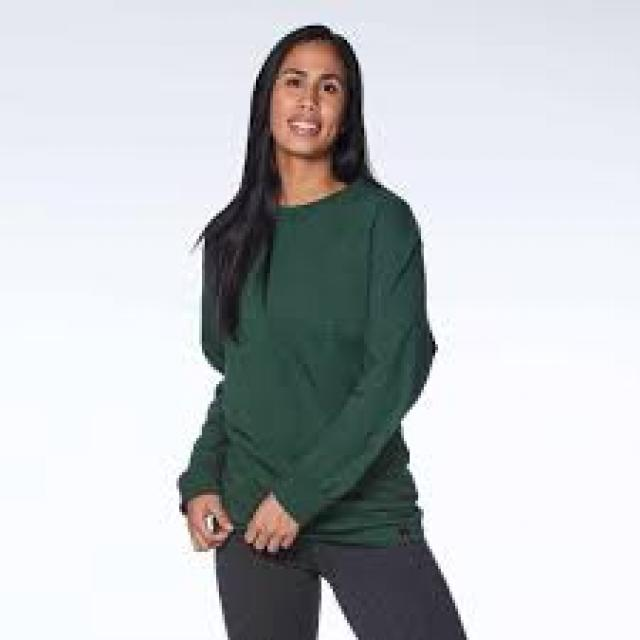plain: (178, 173, 440, 540)
